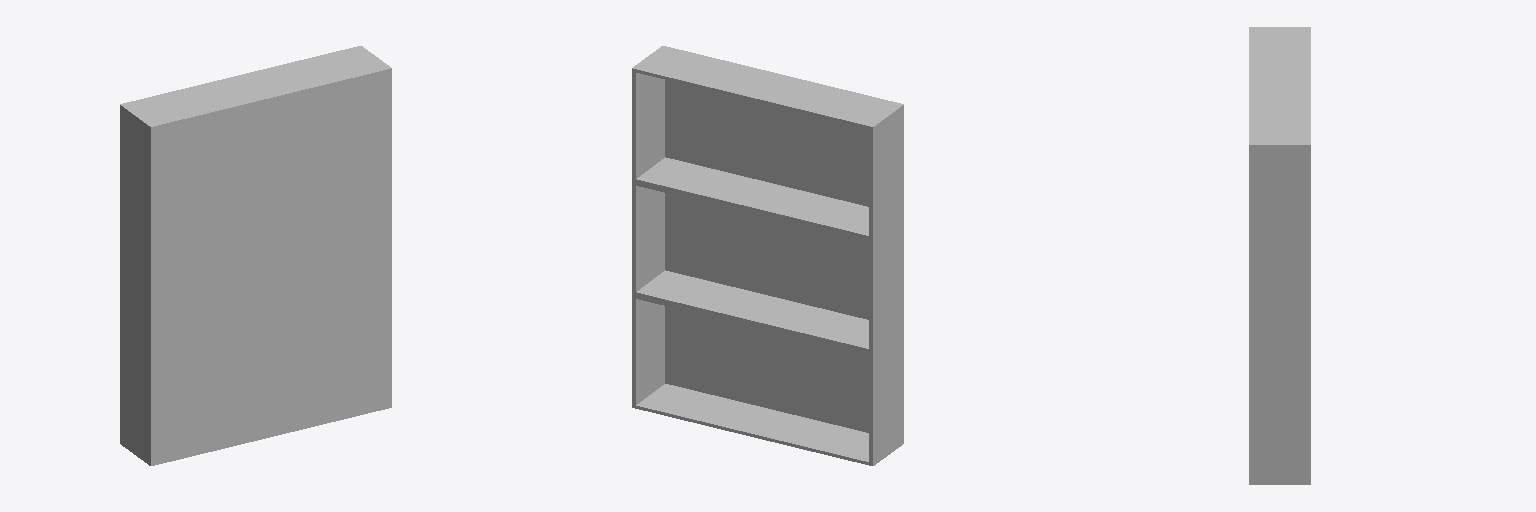
File: Ranat-Shelf-BIG.obj
The picture shows the model from 3 angles: view 1: azimuth 30°, elevation 25°; view 2: azimuth 150°, elevation 25°; view 3: azimuth 270°, elevation 25°; orthographic projection.
Parts seen in each view (by area): view 1: Cube; view 2: Cube; view 3: Cube.
Part boxes in pixels (bbox=[...]): Cube: bbox=[120, 46, 391, 465]; Cube: bbox=[632, 46, 903, 465]; Cube: bbox=[1249, 27, 1310, 484].
Bounding box in the file's own units: 8.94 × 12 × 2.